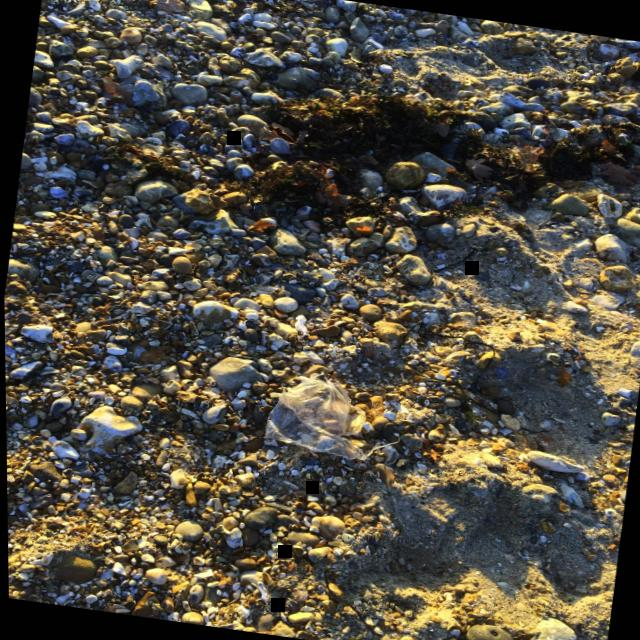Plastic film: (265, 373, 389, 461)
